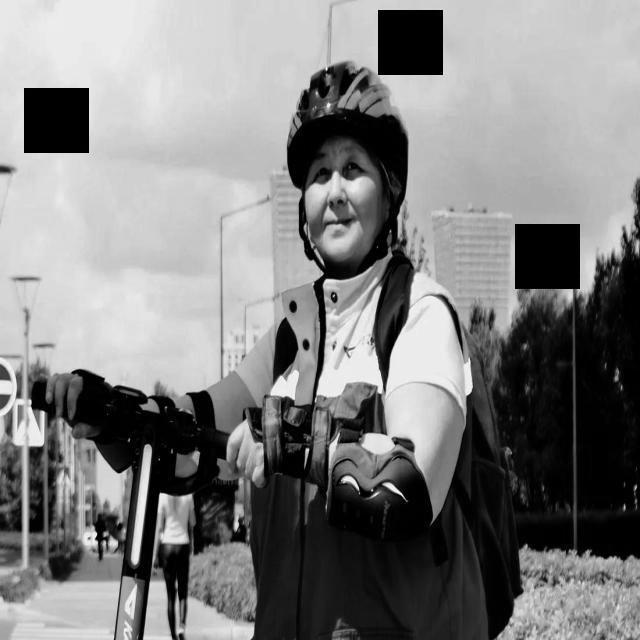helmet: (250, 58, 460, 198)
